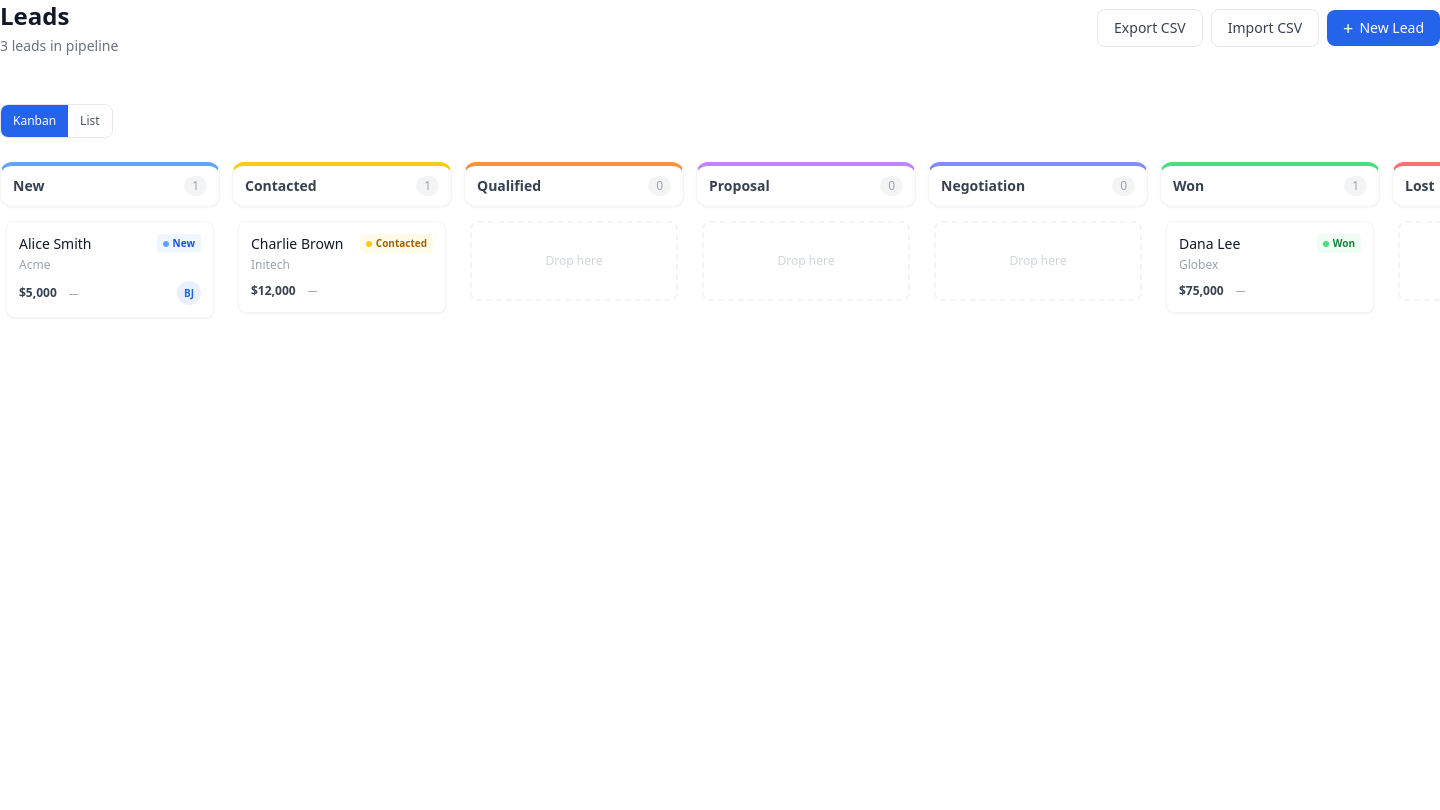
Scenario: Leads page › opens the import-CSV modal when "Import CSV" is clicked
Expected: the link "Alice Smith" is shown, x1=19 y1=234 x2=92 y2=253
Click the button "Import CSV". click: (1265, 28)
box: x1=1211 y1=9 x2=1319 y2=47
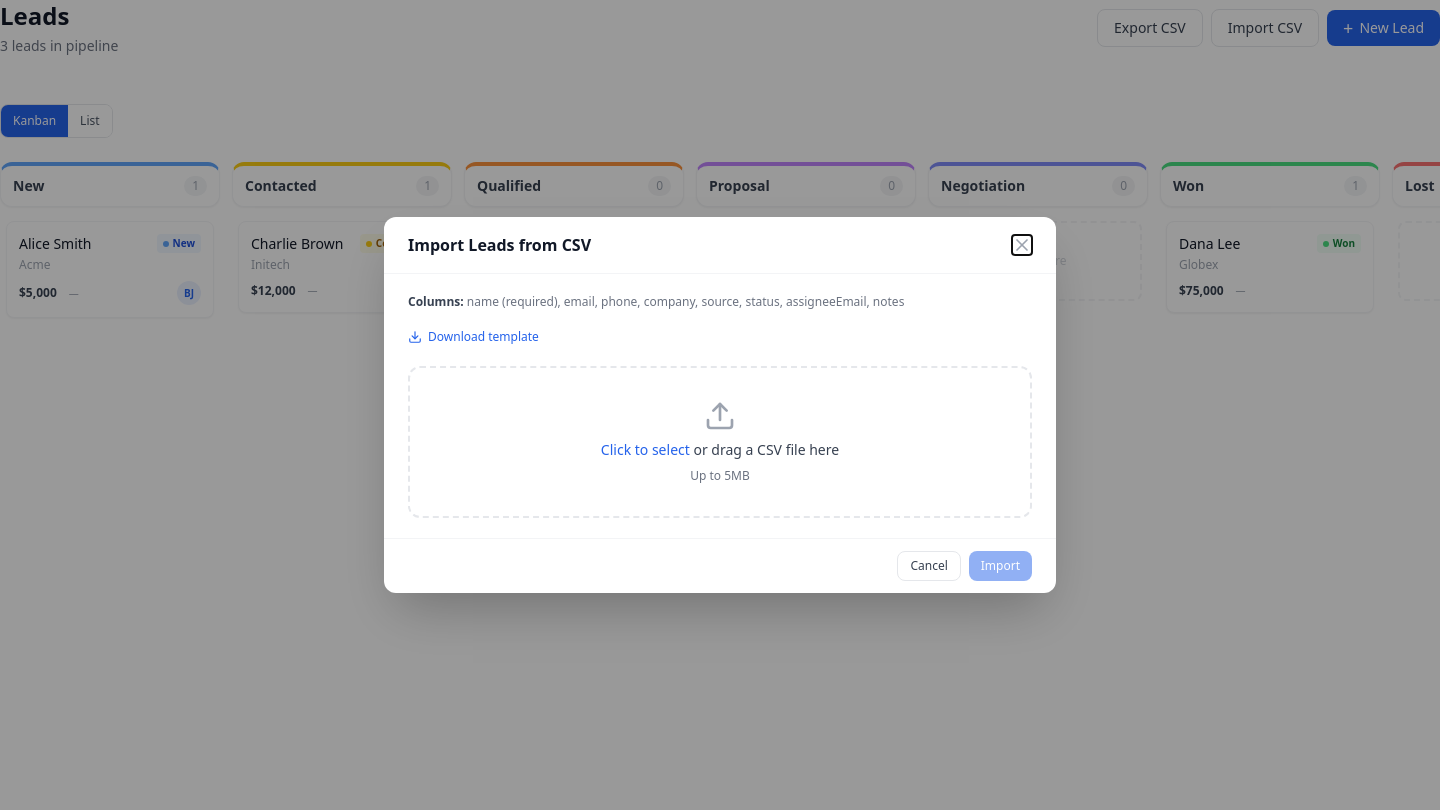
Expected: the dialog "Import Leads from CSV" is shown, x1=384 y1=217 x2=1056 y2=593
